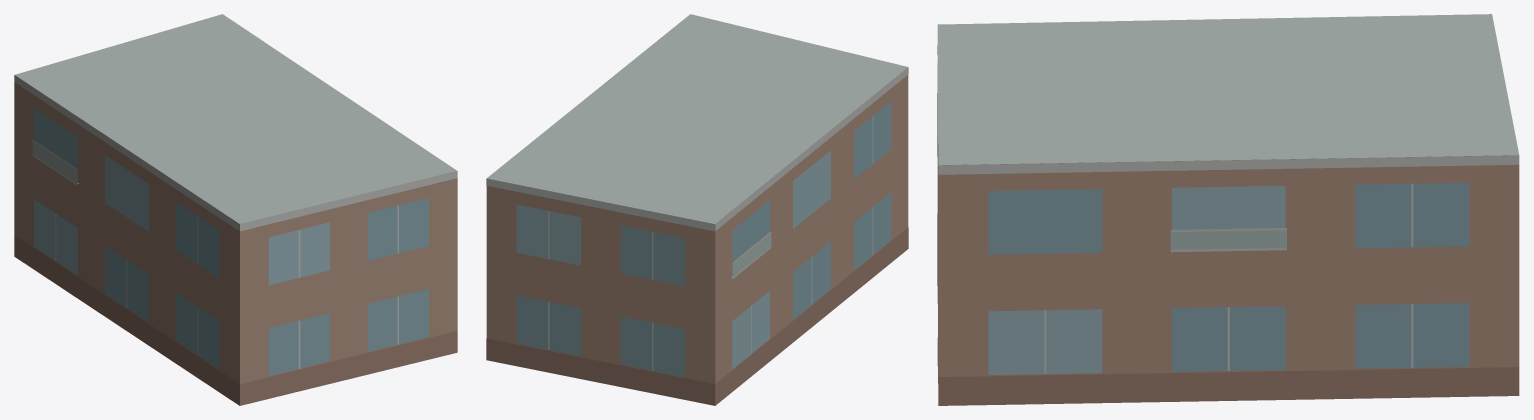
The model's file is survey-upis-32985144.glb.
The picture shows the model from 3 angles, left to right: view 1: azimuth 30°, elevation 25°; view 2: azimuth 150°, elevation 25°; view 3: azimuth 270°, elevation 25°; orthographic projection. The views are drawn at different scales.
Visible parts, largest first — view 1: survey-upis-32985144.tmp; view 2: survey-upis-32985144.tmp; view 3: survey-upis-32985144.tmp.
Part boxes in pixels (box(x1,y1,x2,y2)): survey-upis-32985144.tmp: box(14, 14, 457, 405); survey-upis-32985144.tmp: box(486, 14, 908, 405); survey-upis-32985144.tmp: box(937, 14, 1519, 405).
Bounding box in the file's own units: 8.23 × 6.1 × 13.38.
